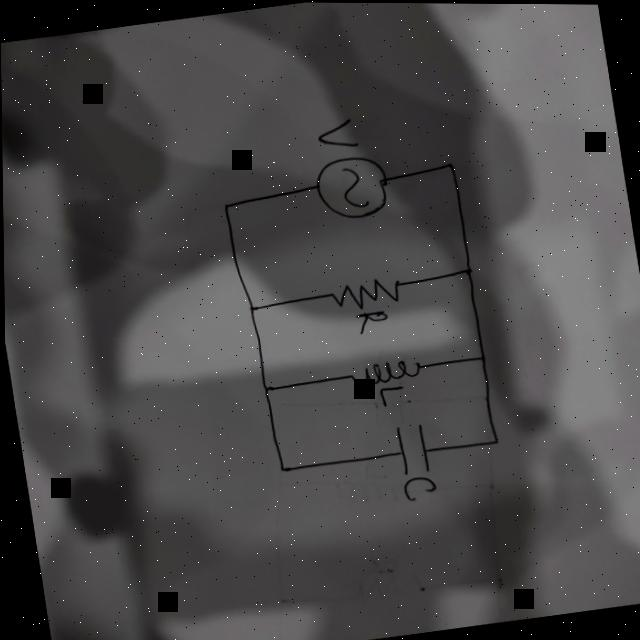capacitor: (392, 419, 431, 475)
inductor: (349, 355, 425, 386)
junction: (242, 299, 262, 316), (218, 198, 237, 212), (260, 379, 276, 393), (462, 263, 476, 275), (476, 350, 489, 362), (277, 462, 291, 472), (489, 434, 502, 444), (445, 159, 457, 168)
resistor: (326, 270, 405, 313)
source: (313, 149, 394, 222)
text: (315, 114, 361, 151), (401, 472, 438, 500), (354, 306, 390, 334), (377, 381, 408, 407)
